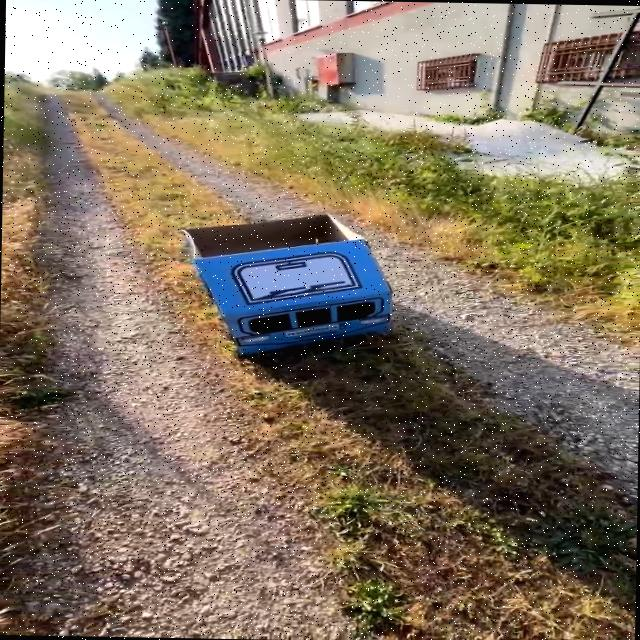blue_car: (175, 184, 443, 386)
